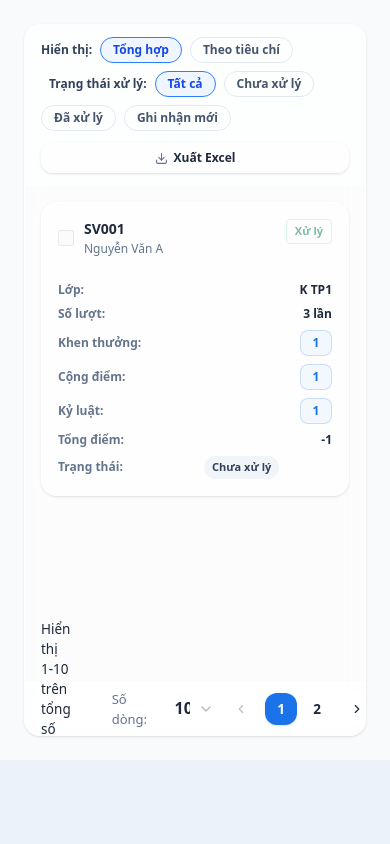
it: AcademicRecordReportTab › opens category details from each count and removes the old detail column
The width and height of the screenshot is (390, 844).
Expected: the element named "Lọc trạng thái xử lý" is shown, [41, 37, 349, 131]
Expected: the text "3 lần" is shown, [303, 306, 332, 322]
Click the button named "Xem chi tiết Khen thưởng". click: (316,343)
box: [300, 330, 332, 356]
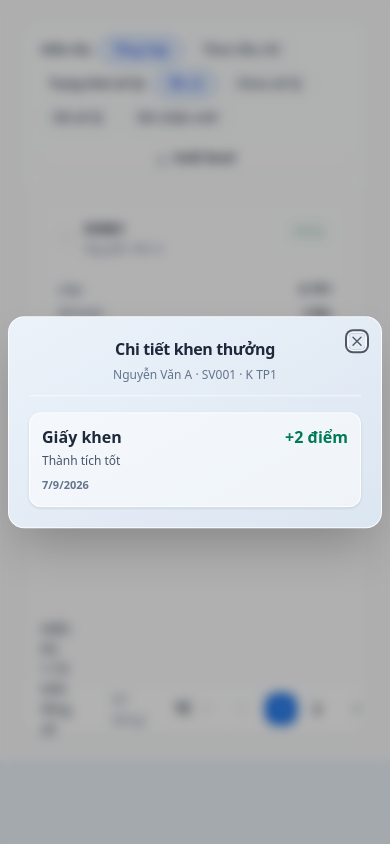
Expected: the heading "Chi tiết khen thưởng" is shown, [115, 338, 275, 360]
Expected: the heading "Giấy khen" is shown, [42, 425, 122, 449]
